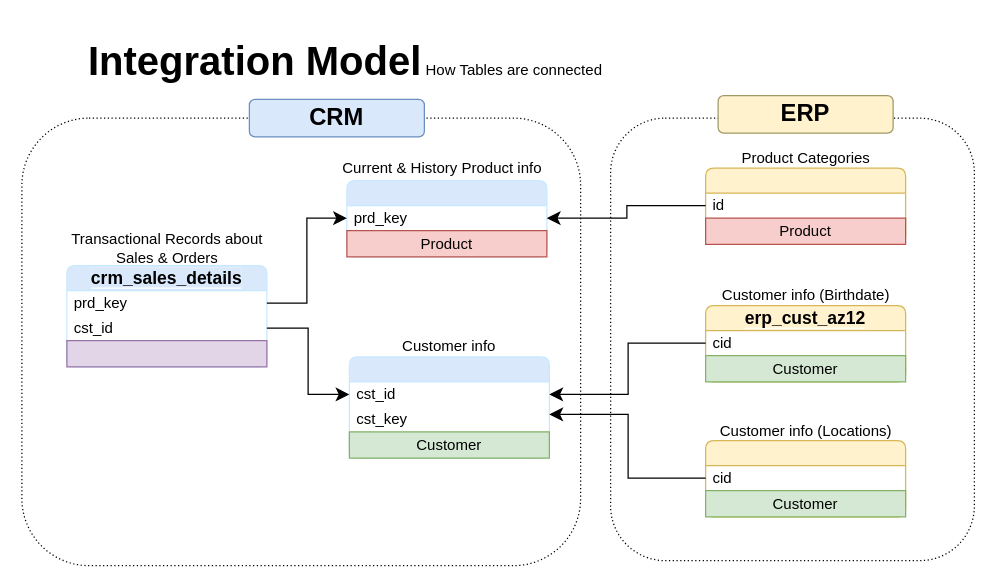
This 996x588 diagram has some shape labels left out. The box of each missing label's shape, as (x1, y1, x2, y2) in pixels:
crm_cust_info: (348, 356, 549, 458)
crm_prd_info: (346, 179, 547, 257)
erp_loc_a101: (704, 439, 906, 517)
erp_px_cat_g1v2: (704, 167, 906, 244)
Sales: (66, 339, 267, 367)
